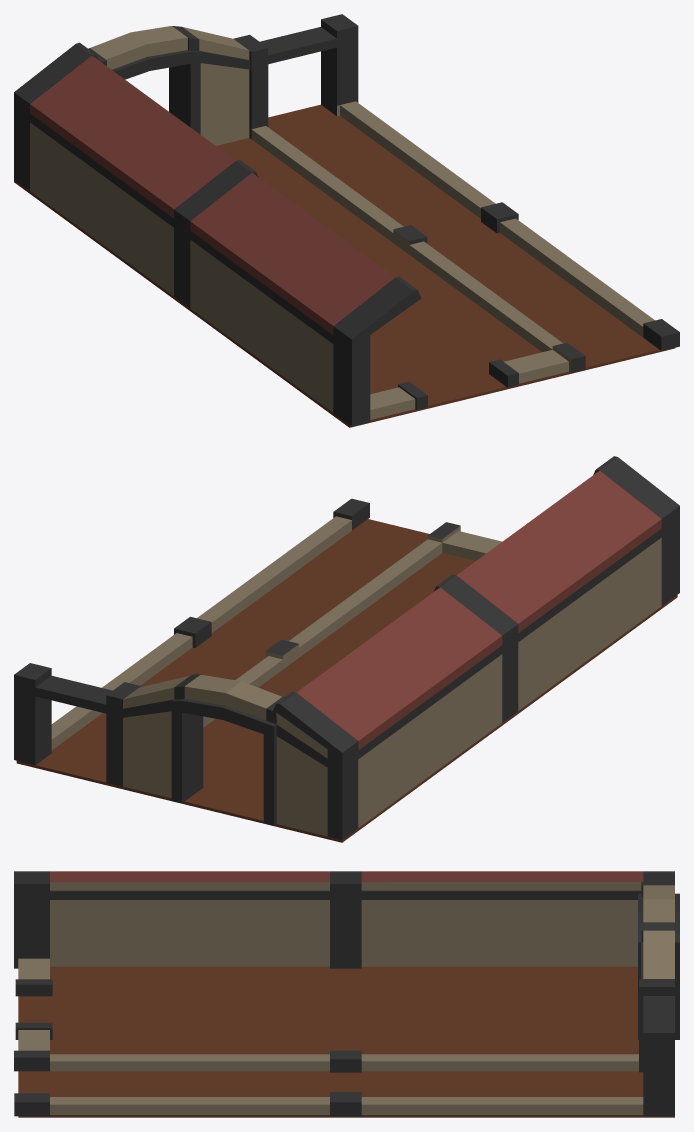
Rendered from Test_Wagon_New.fbx.
3 renders of one model, top to bottom at view 1: azimuth 30°, elevation 25°; view 2: azimuth 150°, elevation 25°; view 3: azimuth 270°, elevation 25°, orthographic. The views are drawn at different scales.
Visible parts, largest first — view 1: Test_Wagon; view 2: Test_Wagon; view 3: Test_Wagon.
Boxes of the visible parts, left/top/right/bottom form: Test_Wagon: left=14, top=14, right=679, bottom=427; Test_Wagon: left=14, top=456, right=679, bottom=842; Test_Wagon: left=14, top=871, right=679, bottom=1117.
Bounding box in the file's own units: 1392 × 500 × 2500.
